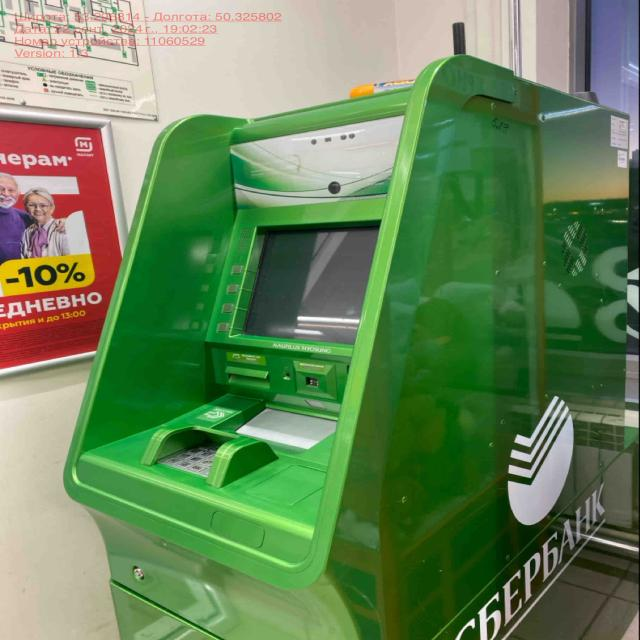bank: (72, 57, 628, 640)
